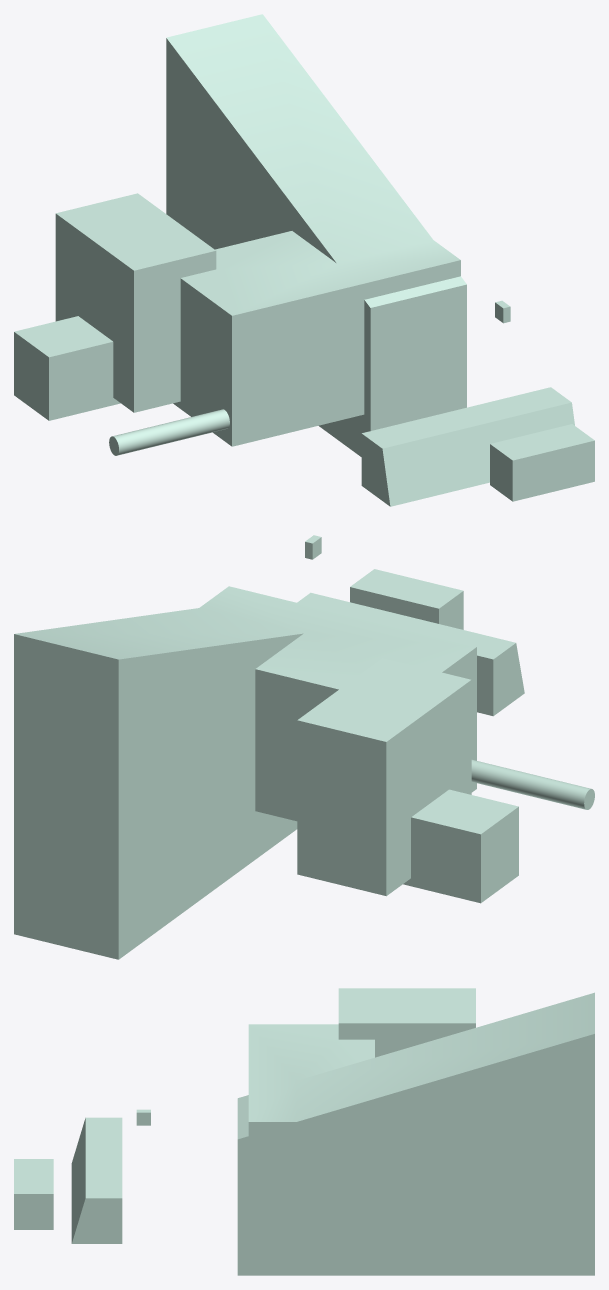
The picture shows the model from 3 angles, top to bottom: view 1: azimuth 30°, elevation 25°; view 2: azimuth 150°, elevation 25°; view 3: azimuth 270°, elevation 25°; orthographic projection. The views are drawn at different scales.
Visible parts, largest first — view 1: Renderer Node; view 2: Renderer Node; view 3: Renderer Node.
Boxes of the visible parts, <box> form: Renderer Node: <box>14,14,594,506</box>; Renderer Node: <box>14,535,594,959</box>; Renderer Node: <box>14,988,594,1275</box>.
Size of the model in its own units: 0.7813 by 0.578 by 1.26.
